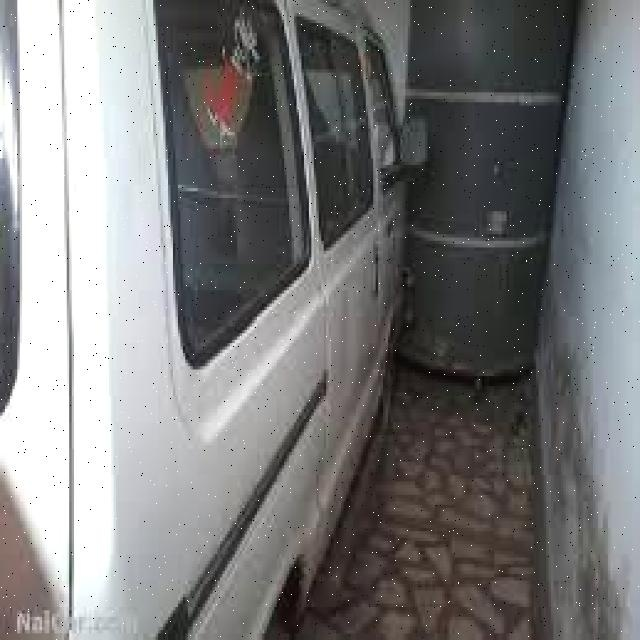Van: (0, 0, 425, 640)
